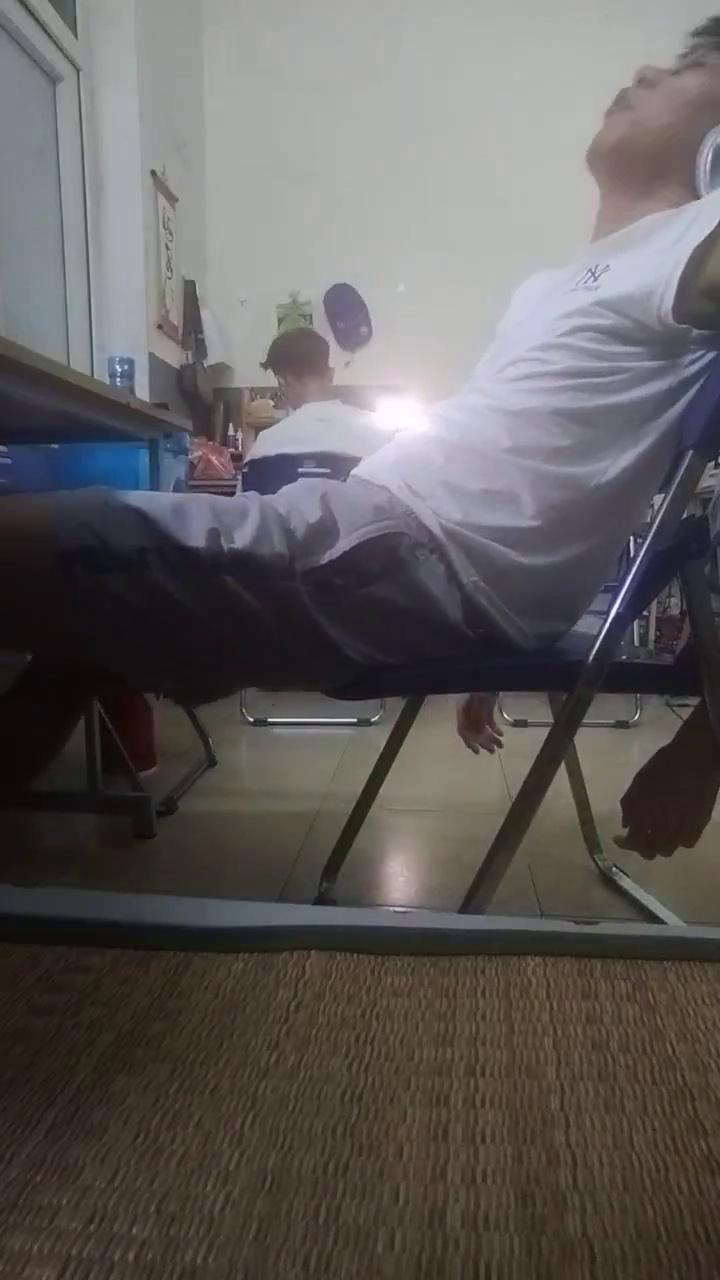BadPosture: (0, 18, 719, 804)
